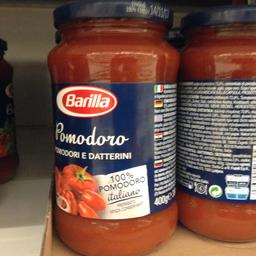tomato_sauce: (44, 0, 180, 255), (176, 4, 255, 244)
